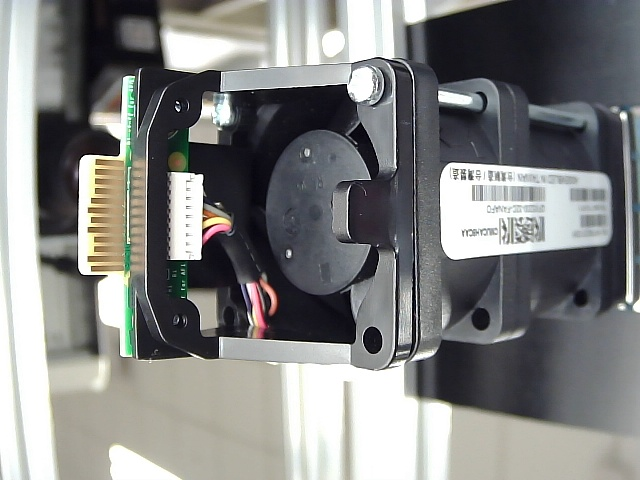8_1: (350, 275, 627, 374)
